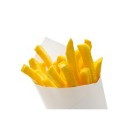frenchfries: (18, 39, 103, 84)
